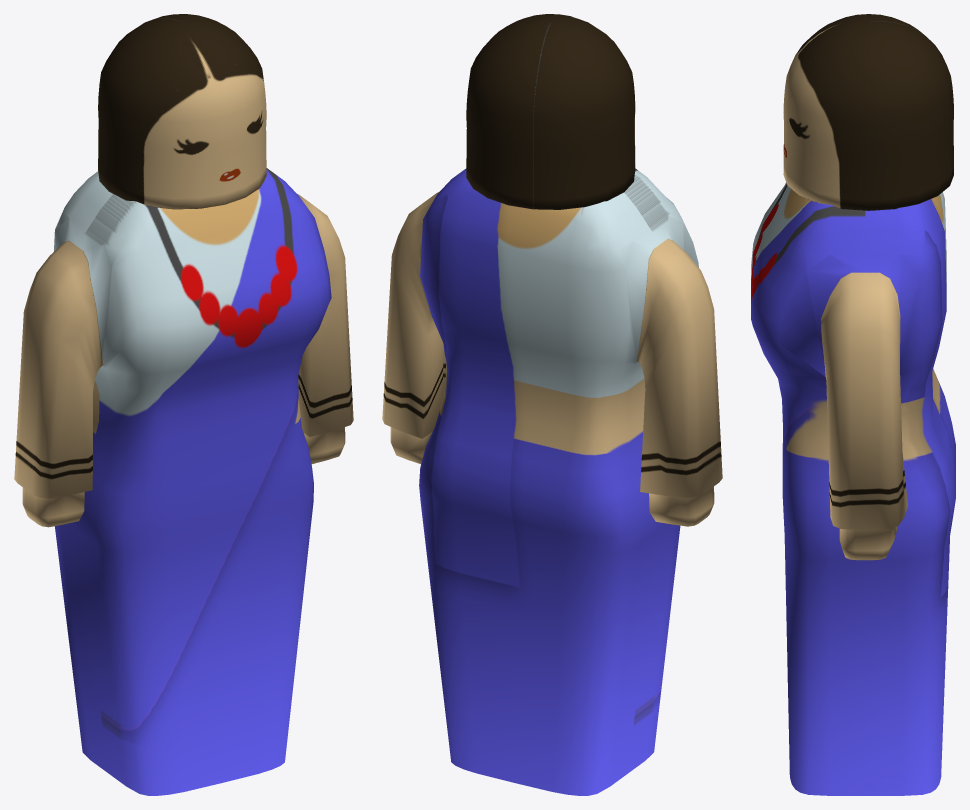
The model's file is female .fbx.
The picture shows the model from 3 angles, left to right: view 1: azimuth 30°, elevation 25°; view 2: azimuth 150°, elevation 25°; view 3: azimuth 270°, elevation 25°; orthographic projection.
Parts seen in each view (by area): view 1: Cube; view 2: Cube; view 3: Cube.
Boxes of the visible parts, x1,y1,x2,y2 form: Cube: [14, 14, 353, 795]; Cube: [382, 14, 722, 795]; Cube: [751, 14, 955, 795].
Bounding box in the file's own units: 347 × 763 × 192.
Materials: 1 (1 with a texture image).
